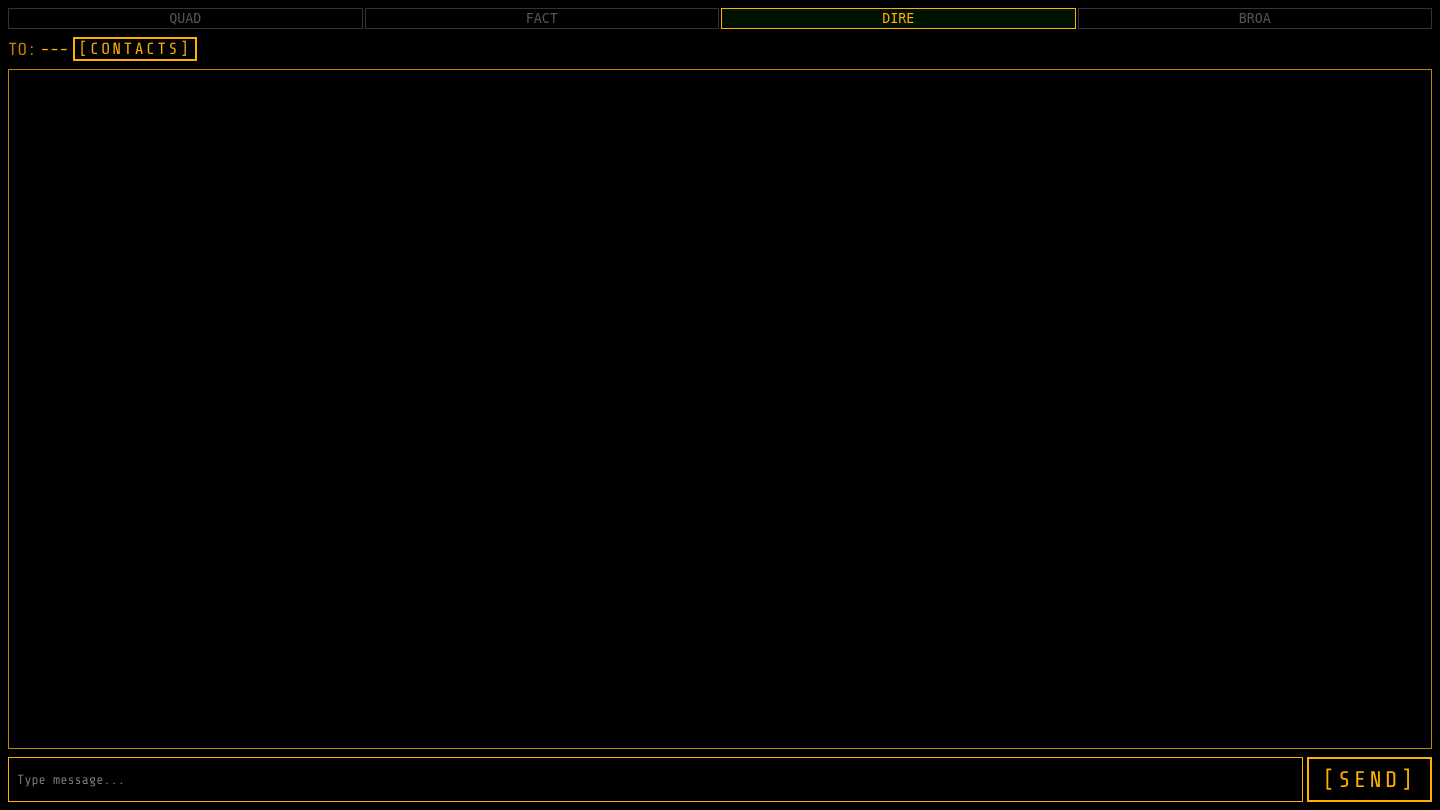
CommsScreen › address book (direct channel) › shows contact list when CONTACTS button is clicked
The image size is (1440, 810).
Click the button "[CONTACTS]". click: (135, 49)
box: [73,37,197,61]
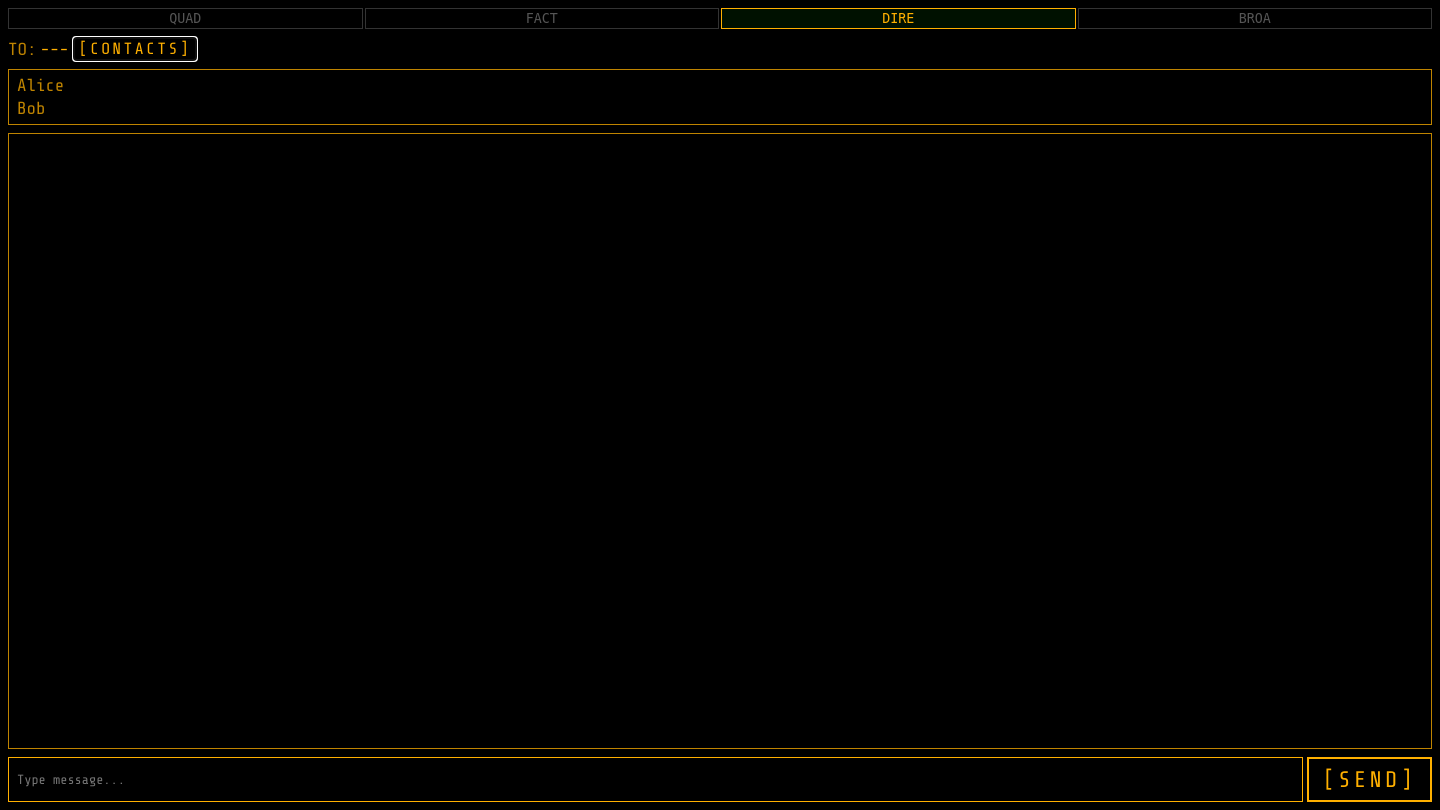
expect the text "Alice" is shown: met, box [17,76,64,95]
expect the text "Bob" is shown: met, box [17,99,45,118]
